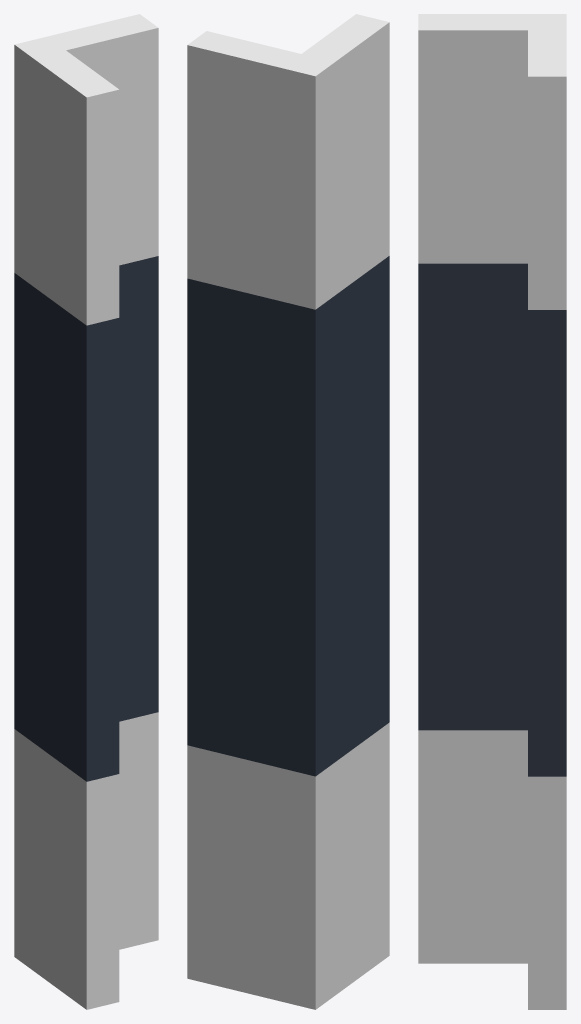
The model's file is SM_OfficeCornerThin.fbx.
3 views of the same model, side by side, from view 1: azimuth 30°, elevation 25°; view 2: azimuth 150°, elevation 25°; view 3: azimuth 270°, elevation 25° (orthographic). The views are drawn at different scales.
Visible parts, largest first — view 1: SM_CornerAvg; view 2: SM_CornerAvg; view 3: SM_CornerAvg.
Part boxes in pixels (left/top/right/bottom): SM_CornerAvg: left=14, top=14, right=158, bottom=1009; SM_CornerAvg: left=187, top=14, right=389, bottom=1009; SM_CornerAvg: left=418, top=14, right=566, bottom=1009.
Size of the model in its own units: 57.5 by 400 by 57.5.
